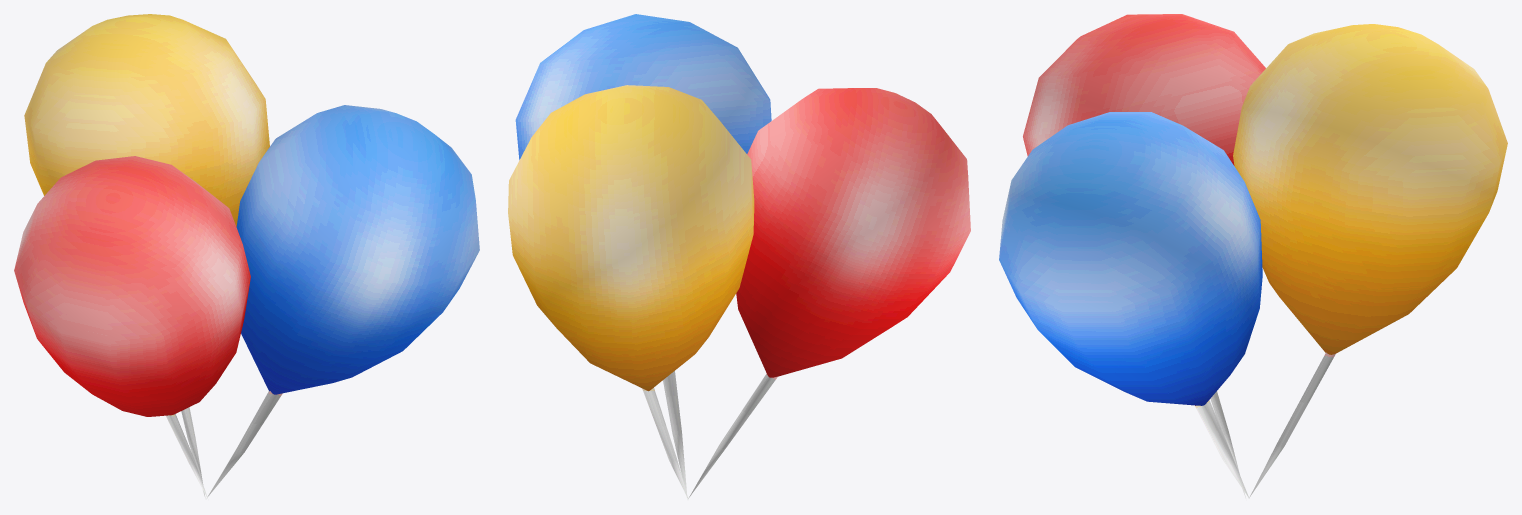
Rendered from ps2_save-icons_up.glb.
3 renders of one model, left to right at view 1: azimuth 30°, elevation 25°; view 2: azimuth 150°, elevation 25°; view 3: azimuth 270°, elevation 25°, orthographic. The views are drawn at different scales.
Parts seen in each view (by area): view 1: listicon.ico; view 2: listicon.ico; view 3: listicon.ico.
Part boxes in pixels (bbox=[...]): listicon.ico: bbox=[14, 14, 479, 499]; listicon.ico: bbox=[508, 14, 970, 499]; listicon.ico: bbox=[999, 14, 1507, 498].
Bounding box in the file's own units: 4.23 × 4.15 × 4.14.
Materials: 1 (1 with a texture image).
